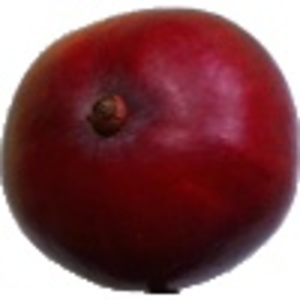manga: (1, 6, 300, 294)
